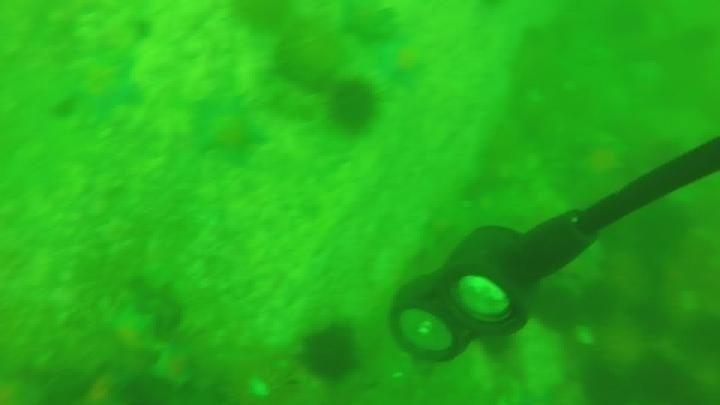echinus: (298, 322, 361, 383), (325, 78, 381, 135), (226, 1, 297, 34)
starfish: (62, 55, 144, 127), (191, 96, 269, 167), (566, 135, 633, 193), (100, 303, 162, 357), (375, 38, 430, 92), (336, 2, 398, 44), (72, 365, 138, 403), (149, 346, 198, 389)
